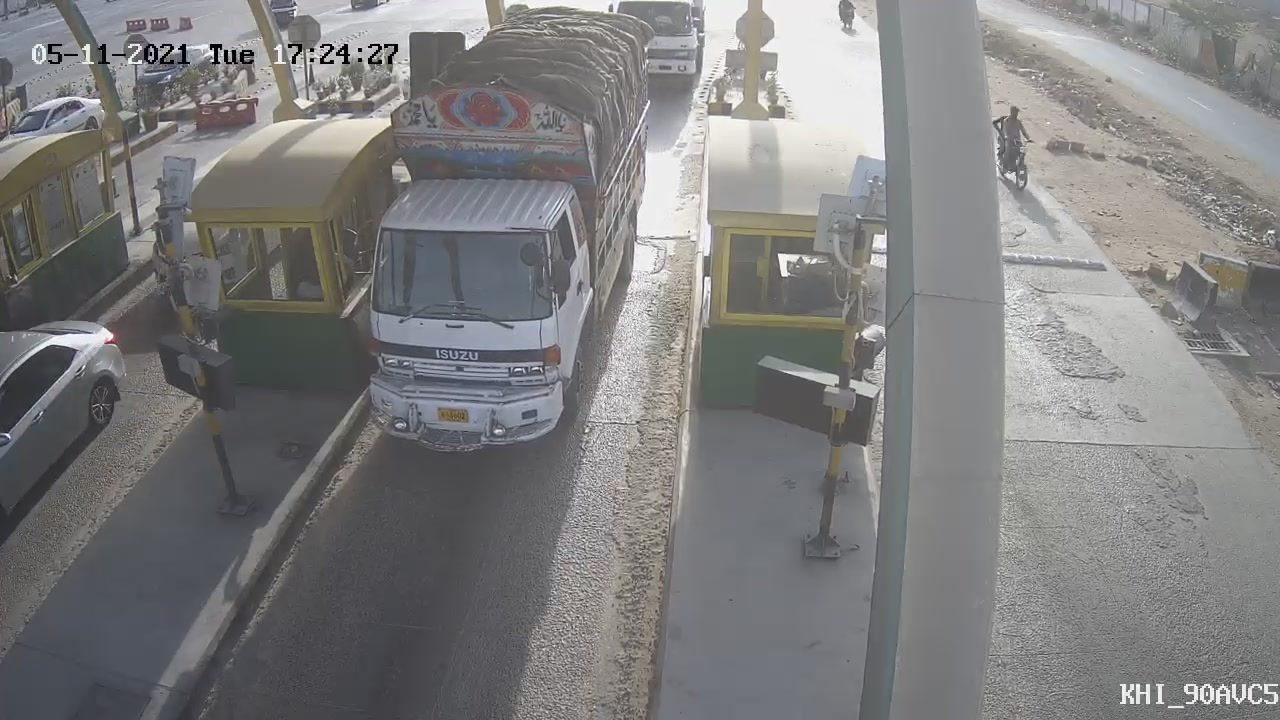F5: (309, 1, 691, 490)
